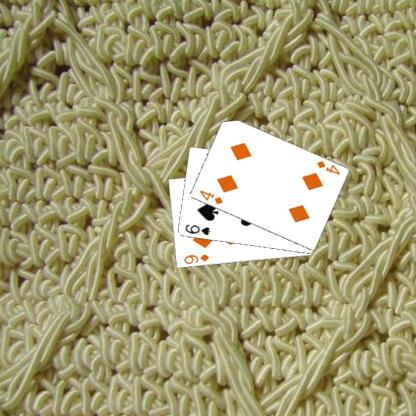4D: (196, 188, 224, 206), (314, 158, 340, 176)
6S: (182, 222, 212, 237)
9D: (181, 251, 210, 266)
